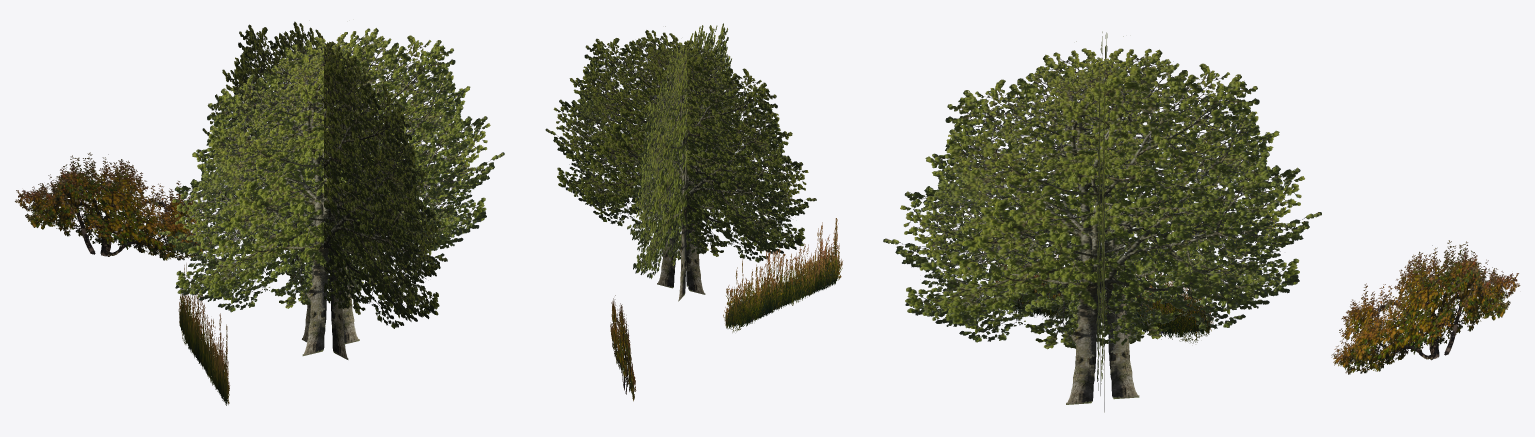
Rendered from SM_Prison_Trees.fbx.
3 renders of one model, left to right at view 1: azimuth 30°, elevation 25°; view 2: azimuth 150°, elevation 25°; view 3: azimuth 270°, elevation 25°, orthographic. The views are drawn at different scales.
Parts seen in each view (by area): view 1: SM_Prison_Trees; view 2: SM_Prison_Trees; view 3: SM_Prison_Trees.
Part boxes in pixels (box(x1,y1,x2,y2)): SM_Prison_Trees: box(15, 21, 504, 405); SM_Prison_Trees: box(545, 23, 842, 401); SM_Prison_Trees: box(883, 31, 1520, 412).
Size of the model in its own units: 1331 by 1159 by 1866.
